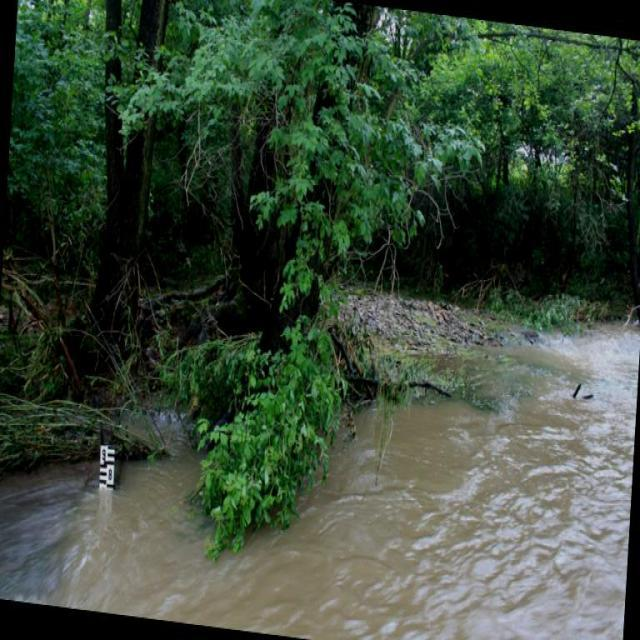flood: (0, 260, 639, 639)
